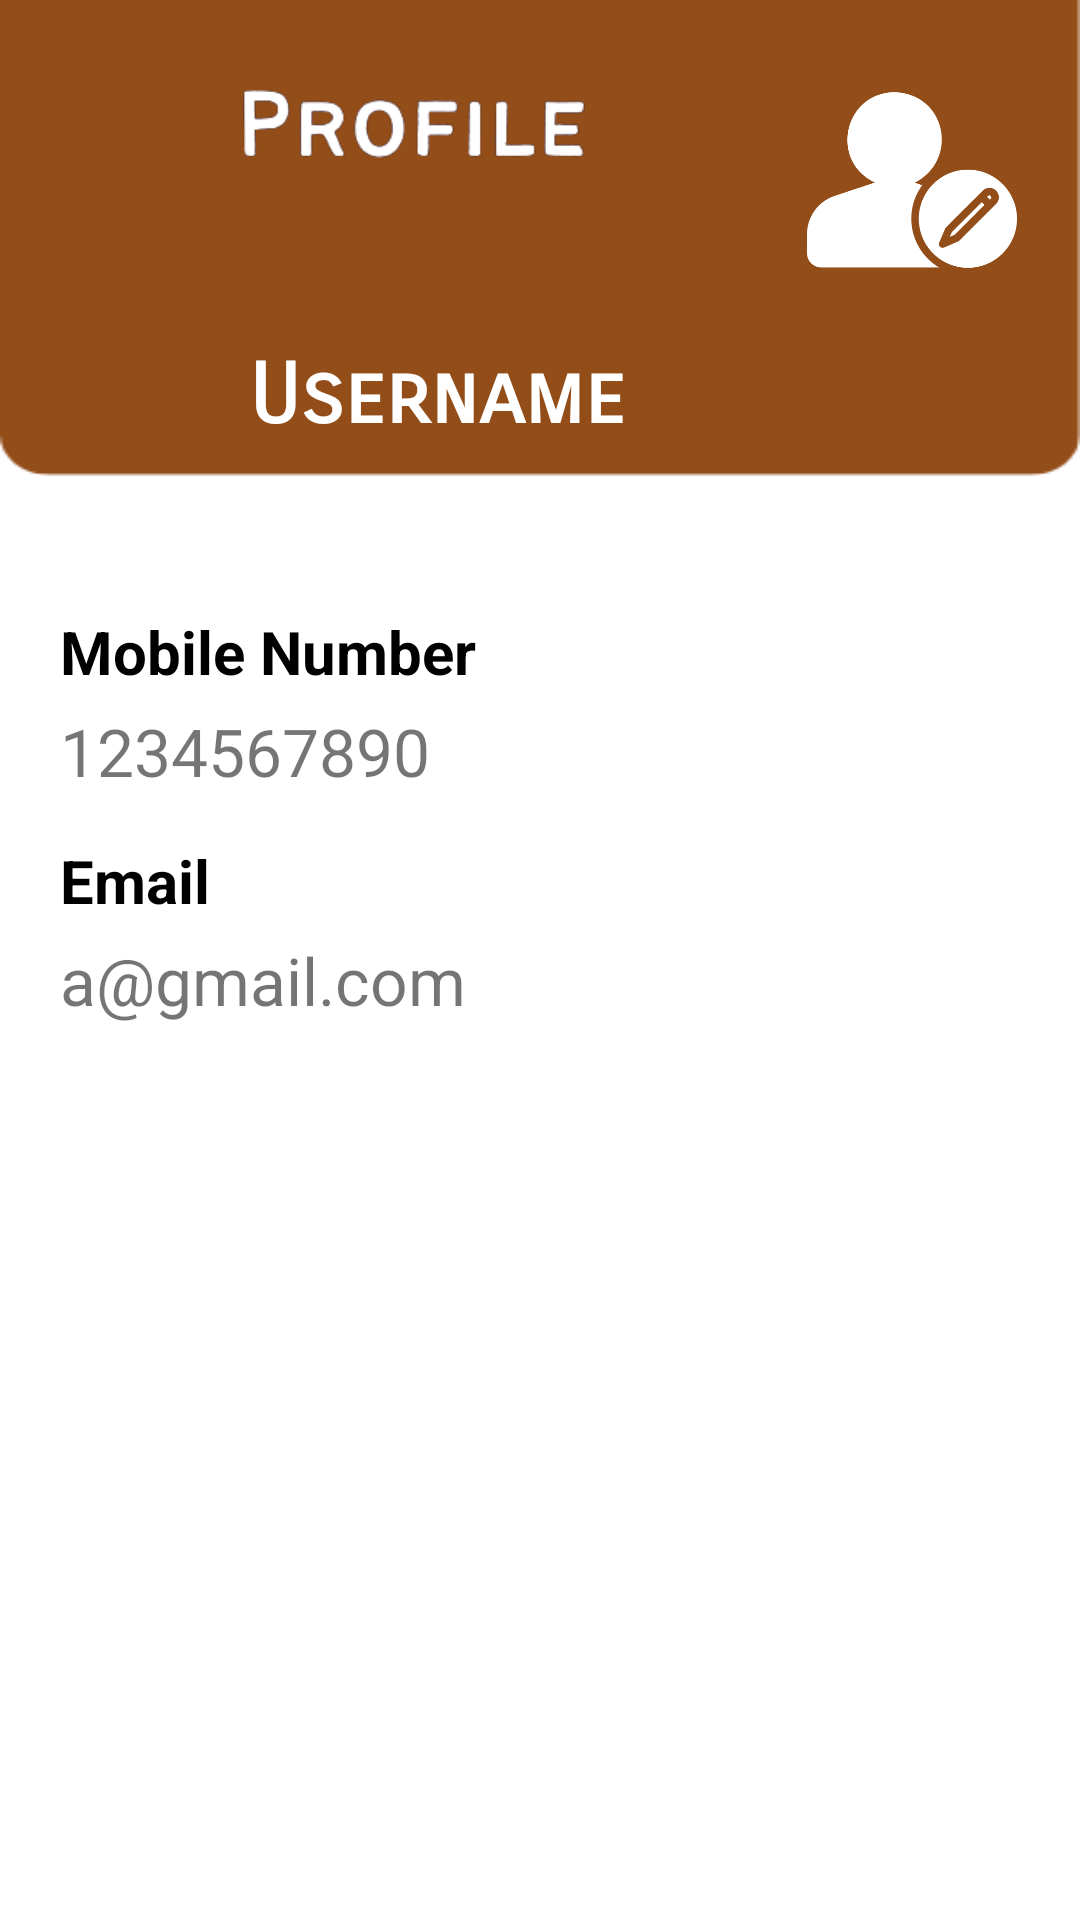

Icons on this 1080x1920 Android screen, each with the point to tap as [x,y]:
editprofile: [912,180]
